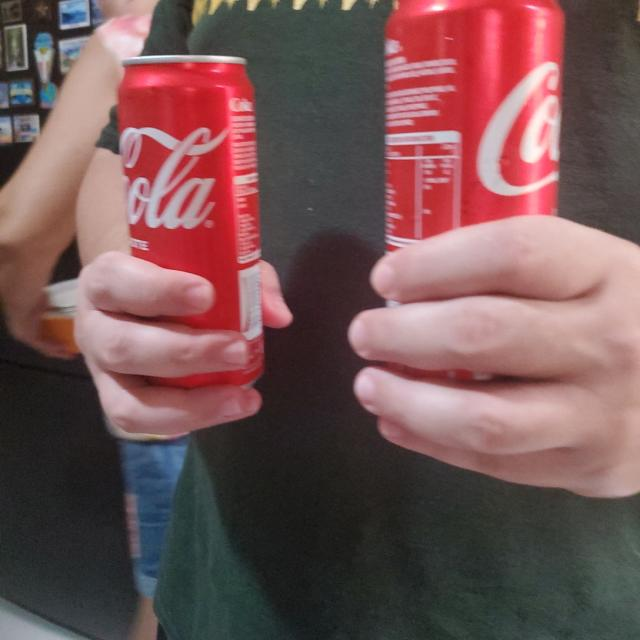coke: (378, 0, 560, 357), (106, 54, 259, 350)
